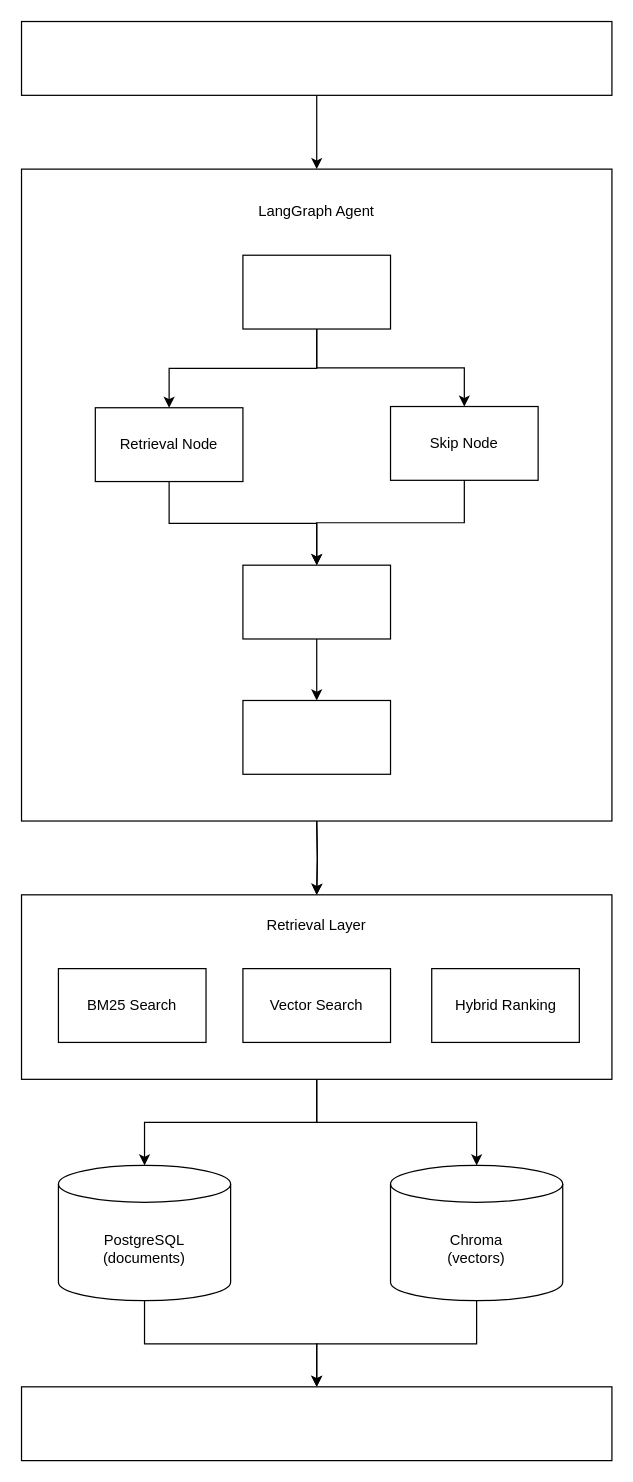
Some shapes in this 633 by 1482 pixel diagram are drawn without their labels. Here are the shapes that lost their labels. From the top down, the centre of each, then its label:
At point (316, 57): "Streamlit UI (Dashboard / Interaction)".
At point (316, 291): "Plan Node".
At point (316, 601): "Intelligence Node".
At point (316, 736): "Decision Node".
At point (316, 1423): "Web Crawler".
